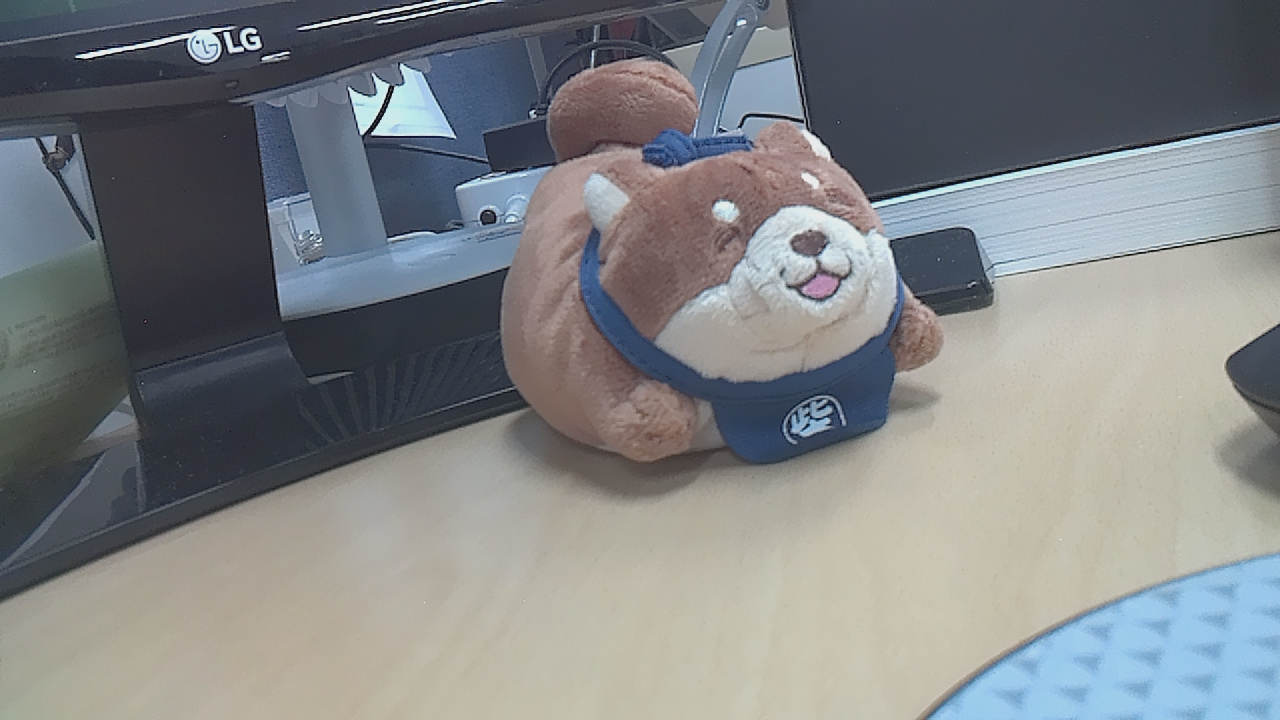cuteDog: (464, 92, 964, 512)
